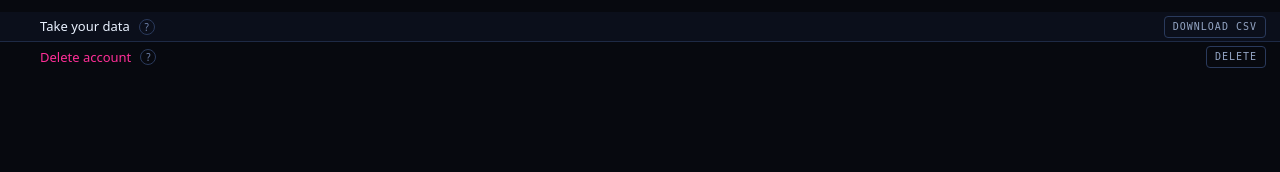
AccountData › регистр и пробелы не мешают: человек вводит почту, а не строку байтов
Click the button "Delete" at [1236, 57], box left=1206, top=46, right=1266, bottom=68
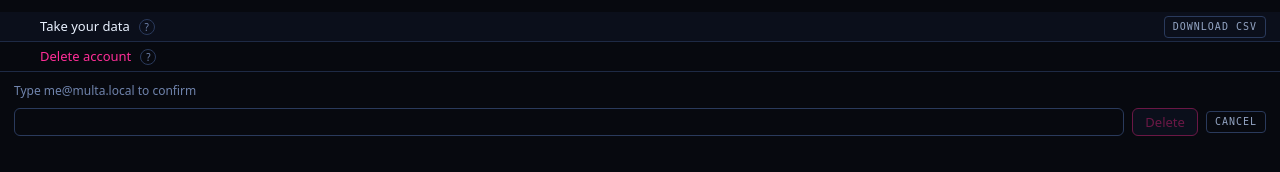
Type "  ME@Multa.Local  " into the field at [569, 122], box left=14, top=108, right=1124, bottom=136
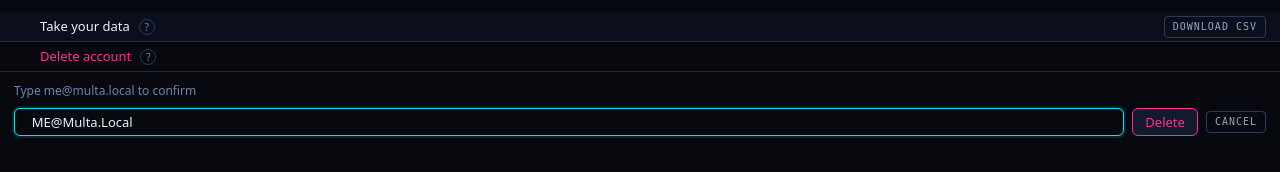
Expected: the button "Delete" is enabled, left=1132, top=108, right=1198, bottom=136
